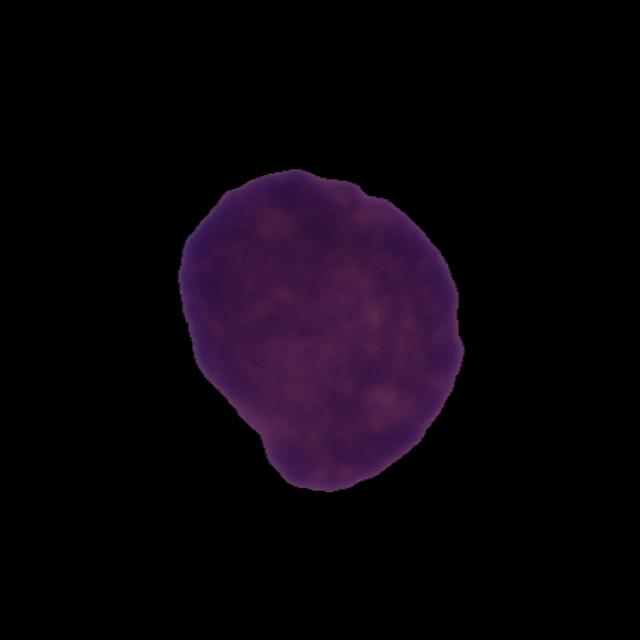ALL Positive Cell: (177, 168, 461, 492)
